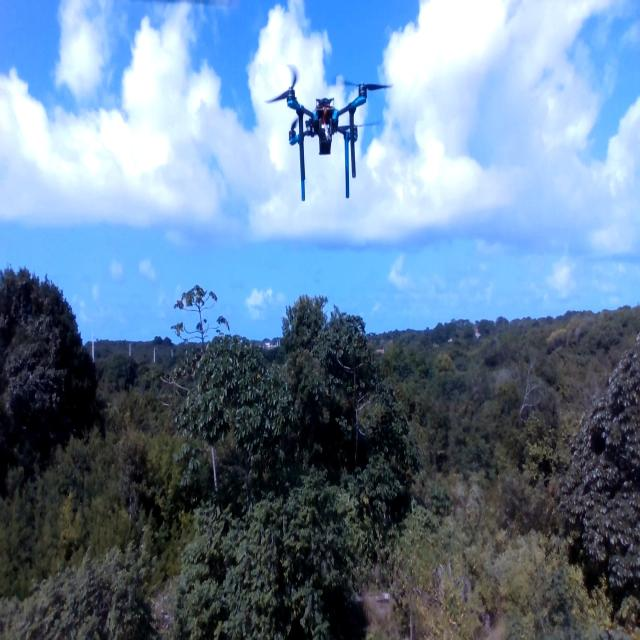-uav-: (261, 55, 393, 237)
